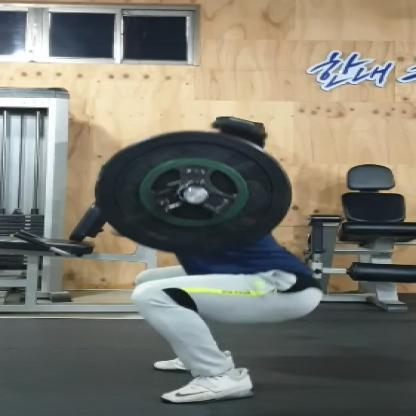Barbell: (87, 128, 311, 260)
